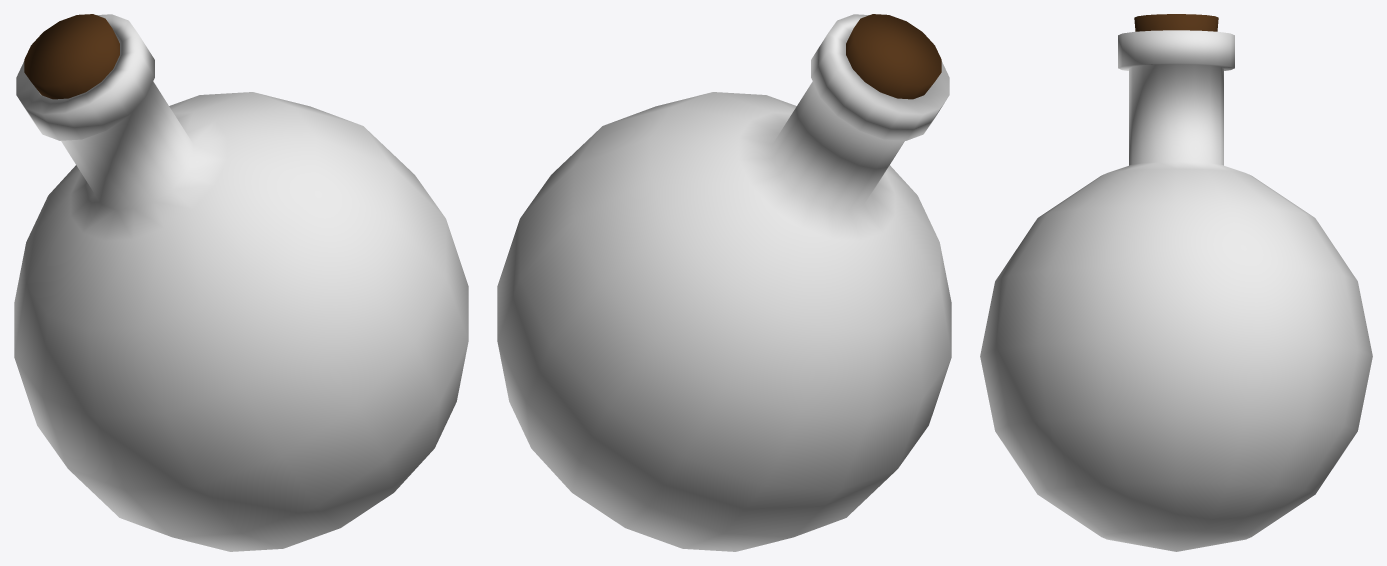
The model's file is bottle.fbx.
The picture shows the model from 3 angles, left to right: view 1: azimuth 30°, elevation 25°; view 2: azimuth 150°, elevation 25°; view 3: azimuth 270°, elevation 25°; orthographic projection. The views are drawn at different scales.
Parts seen in each view (by area): view 1: Bottle; view 2: Bottle; view 3: Bottle.
Part boxes in pixels (x1,y1,x2,y2): Bottle: (14,14,468,551); Bottle: (497,14,951,551); Bottle: (980,14,1372,551).
Size of the model in its own units: 0.6263 by 0.6052 by 0.7861.
